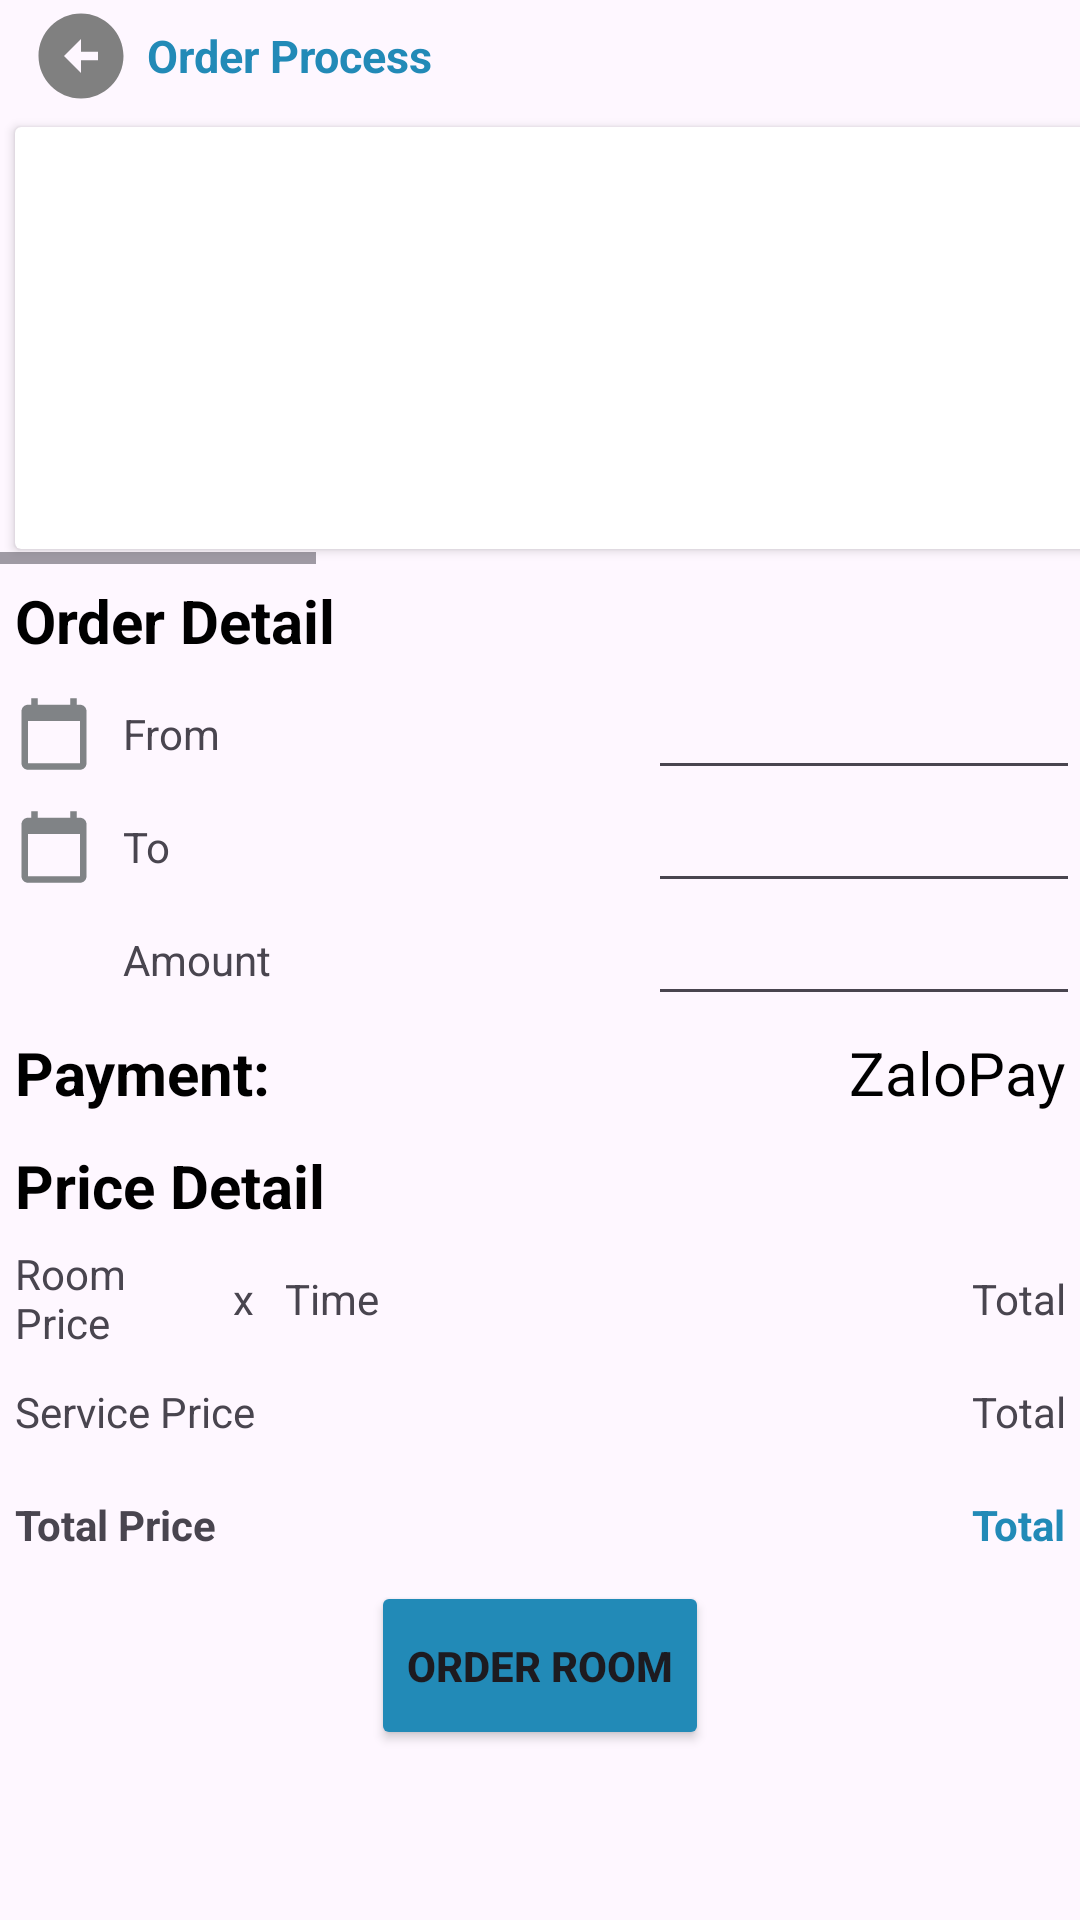

Named icons in this screenshot (1080px x 1920px) and their bounding boxes, (x1, y1, x2, y2):
back: (38, 13, 124, 99)
date: (21, 698, 87, 770), (21, 811, 87, 883)
